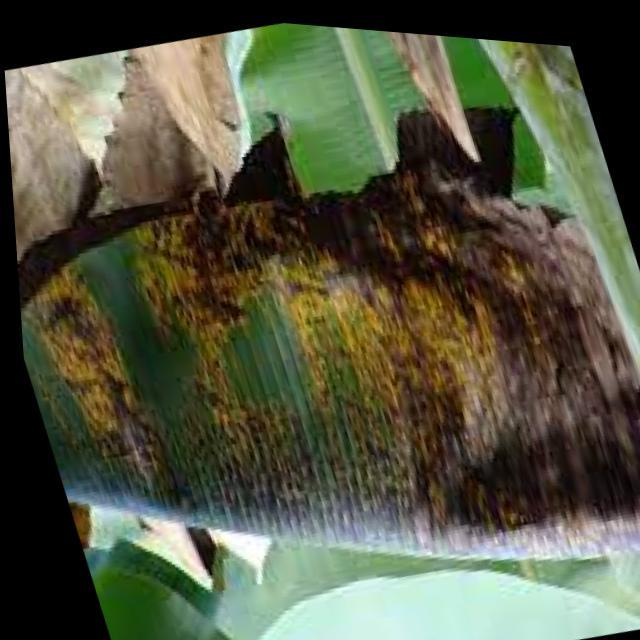Early_rust: (0, 181, 640, 604)
